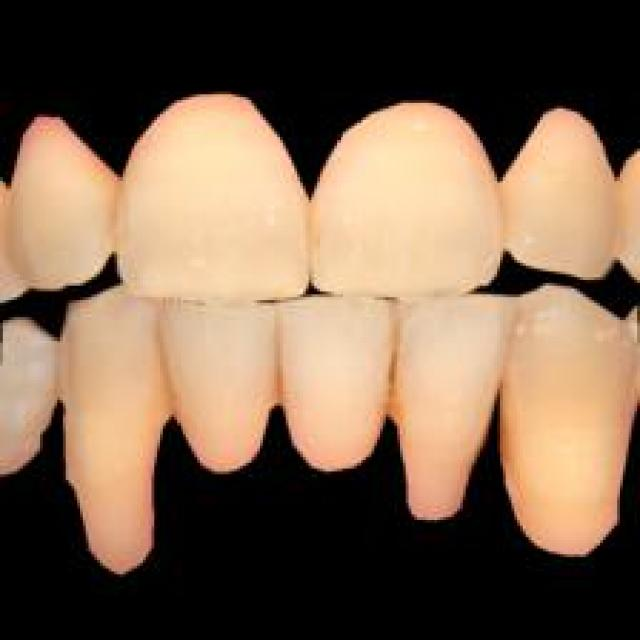cavity: (105, 168, 128, 252), (157, 352, 183, 417), (386, 340, 403, 420), (268, 363, 288, 403)
tooth: (120, 80, 309, 300), (497, 280, 637, 557), (323, 77, 500, 294), (66, 292, 157, 568), (389, 294, 494, 517), (6, 103, 117, 288), (166, 294, 274, 474), (506, 92, 611, 277), (286, 294, 383, 472), (3, 314, 43, 469)
